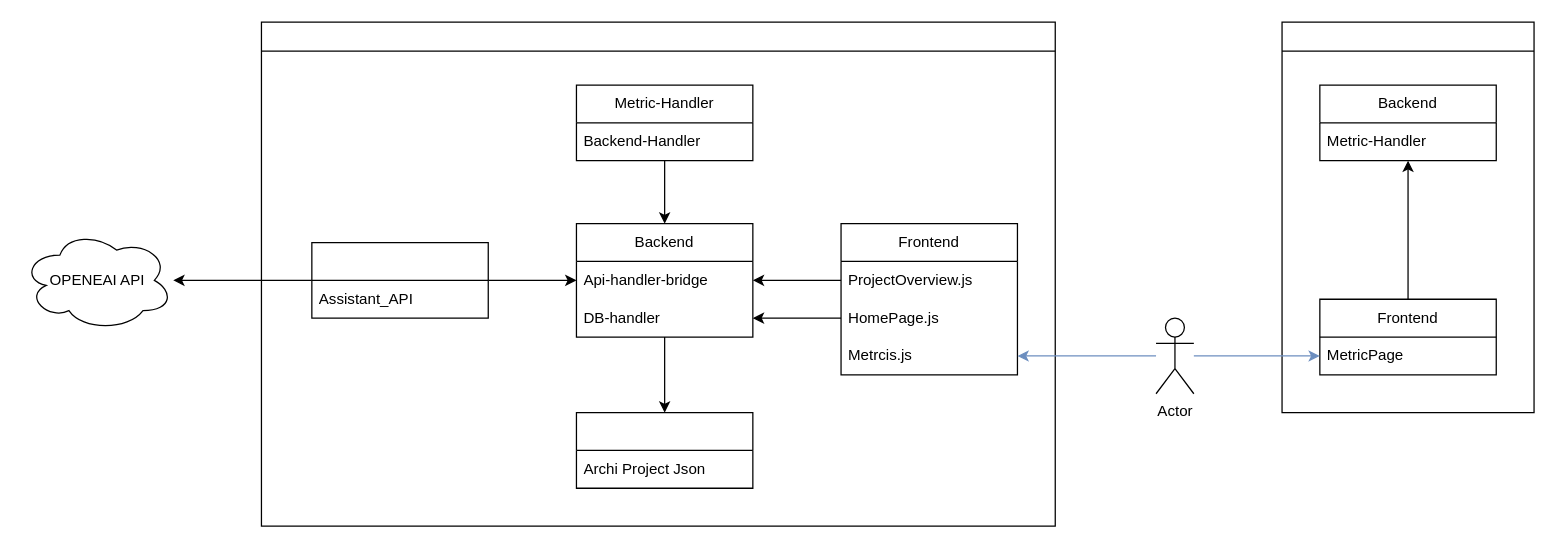
This 1556x548 diagram has some shape labels left out. The shapes that lost their labels are listed below. From the top down, each one's box as (x1, y1, x2, y2) in pixels, then its label:
(1281, 21, 1534, 413): Archi Metrics
(311, 241, 488, 318): API-Handler
(260, 21, 1055, 526): ArchiGPT
(575, 411, 753, 488): MongoDB
